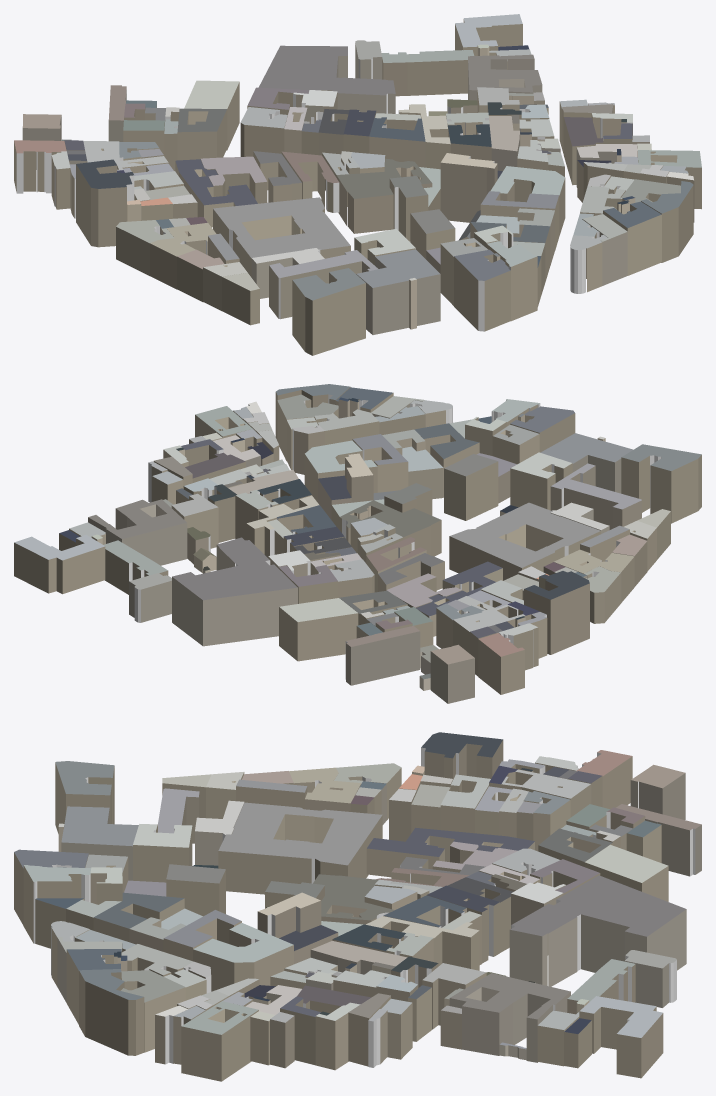
3 views of the same model, one above another, from view 1: azimuth 30°, elevation 25°; view 2: azimuth 150°, elevation 25°; view 3: azimuth 270°, elevation 25° (orthographic). The views are drawn at different scales.
Visible parts, largest first — view 1: tuile; view 2: tuile; view 3: tuile.
Part boxes in pixels (<box>): tuile: <box>14,14,701,355</box>; tuile: <box>14,384,701,703</box>; tuile: <box>14,732,701,1081</box>.
Size of the model in its own units: 275 by 31.1 by 278.
